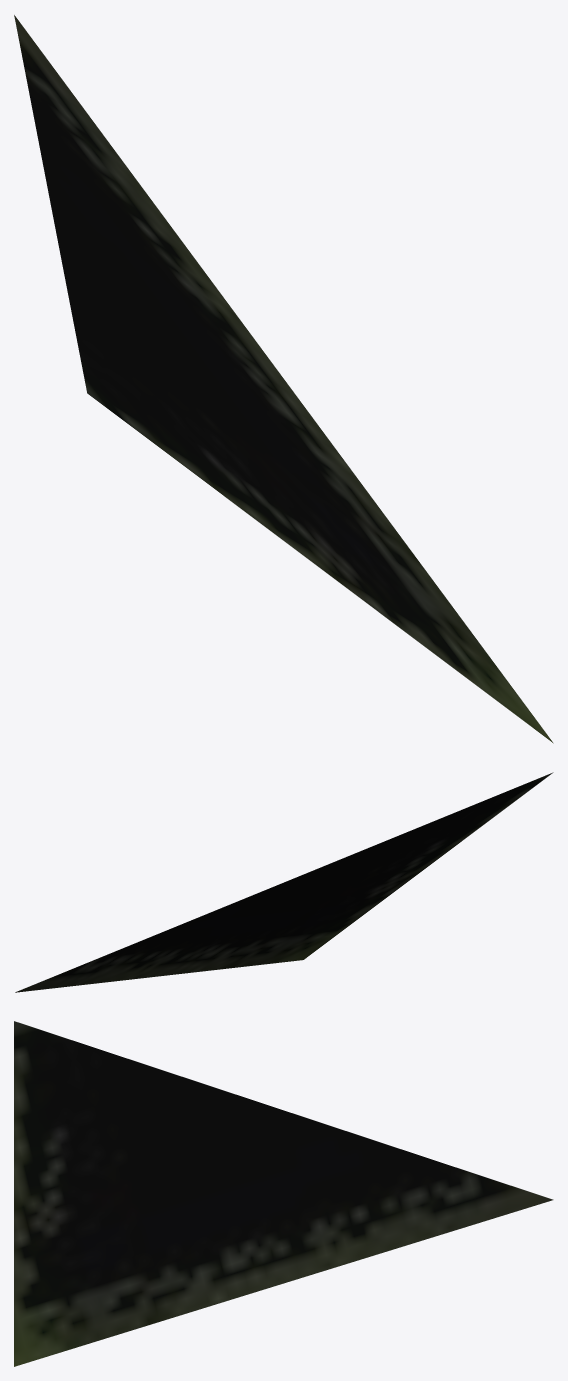
The picture shows the model from 3 angles, top to bottom: view 1: azimuth 30°, elevation 25°; view 2: azimuth 150°, elevation 25°; view 3: azimuth 270°, elevation 25°; orthographic projection. The views are drawn at different scales.
Bounding box in the file's own units: 0.5743 × 0.5458 × 1.15.
1 material, 1 textured.
